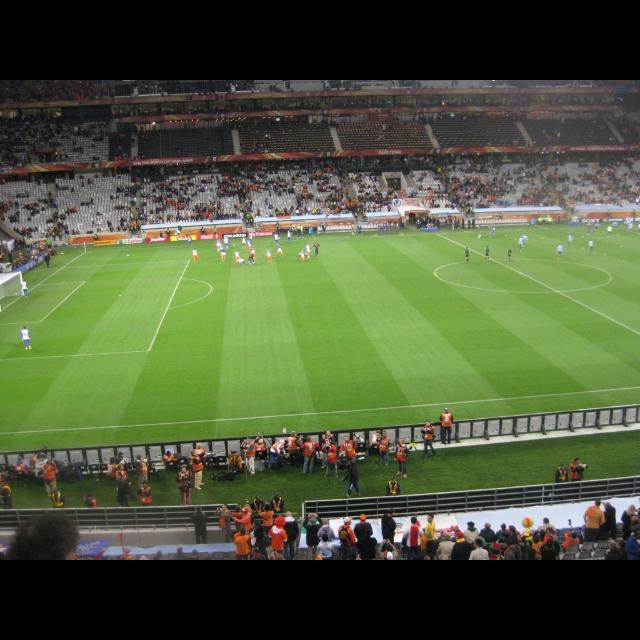Football: (231, 242, 233, 244)
